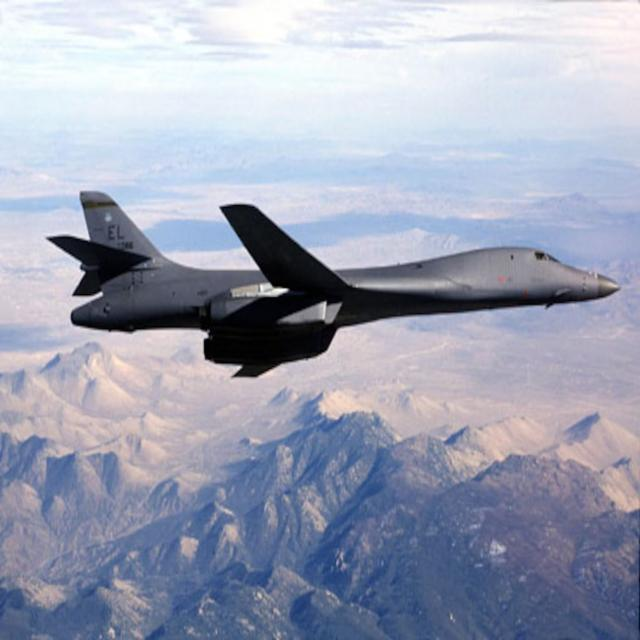B1: (48, 132, 631, 420)
